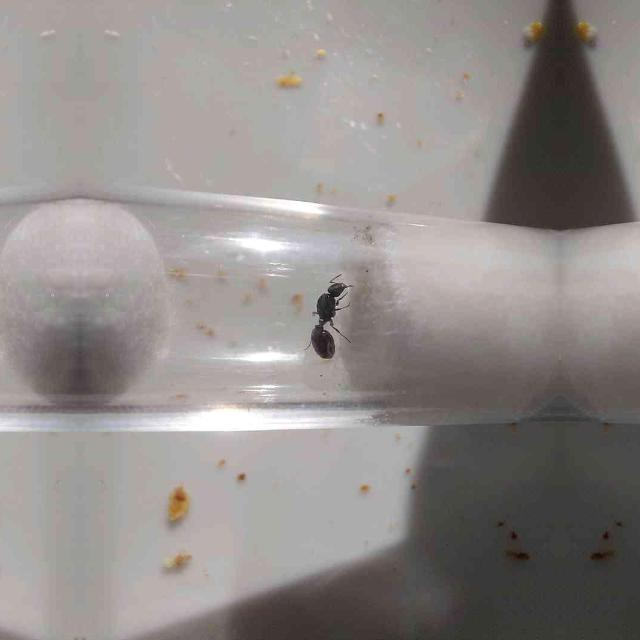Tetramorium: (298, 258, 356, 366)
